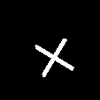single_crochet: (36, 39, 73, 76)
